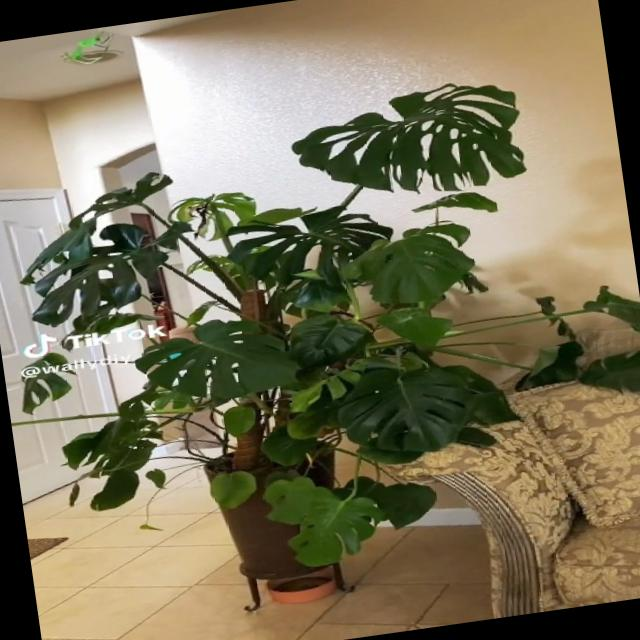roslina_zdrowa: (15, 85, 640, 565)
